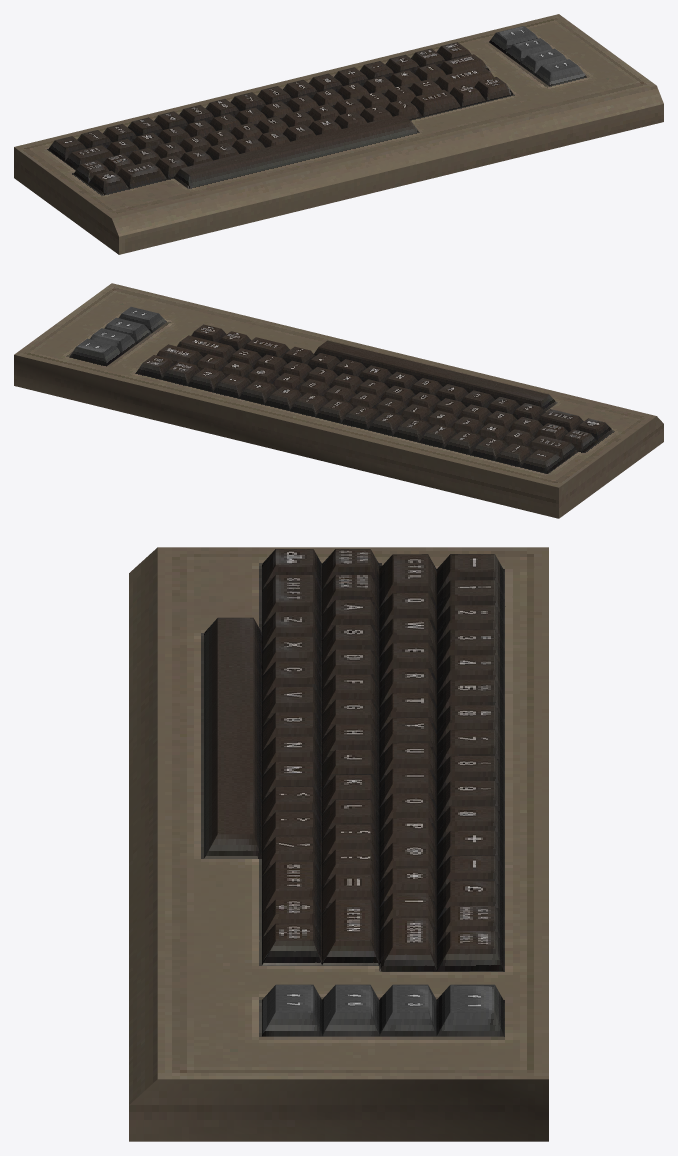
File: pc_keyboard_mp_2.glb
3 renders of one model, top to bottom at view 1: azimuth 30°, elevation 25°; view 2: azimuth 150°, elevation 25°; view 3: azimuth 270°, elevation 25°, orthographic. The views are drawn at different scales.
Parts seen in each view (by area): view 1: pc_keyboard_mp_2; view 2: pc_keyboard_mp_2; view 3: pc_keyboard_mp_2.
Boxes of the visible parts, x1,y1,x2,y2 form: pc_keyboard_mp_2: (14, 14, 663, 254); pc_keyboard_mp_2: (14, 283, 663, 518); pc_keyboard_mp_2: (129, 547, 548, 1141).
Bounding box in the file's own units: 0.55 × 0.0396 × 0.1836.
1 material, 1 textured.
